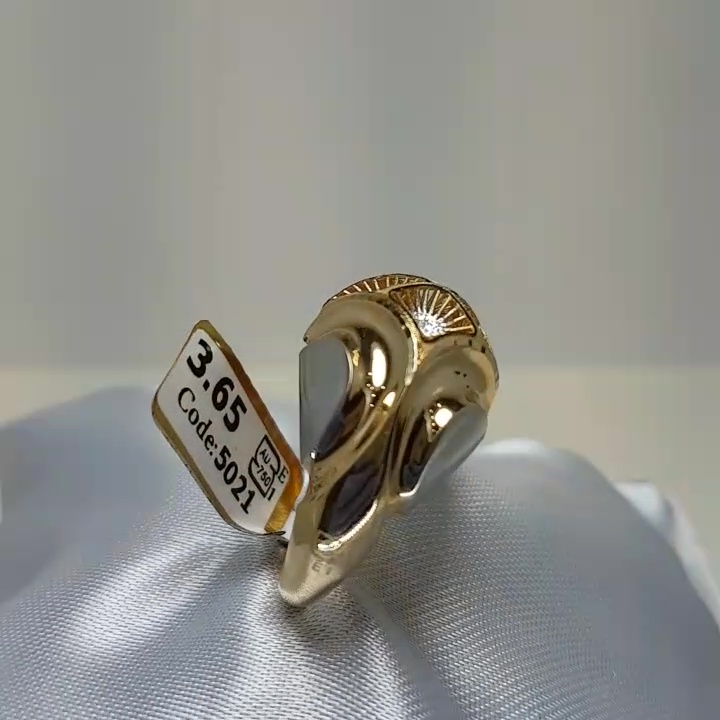Ring 2: (200, 262, 516, 622)
